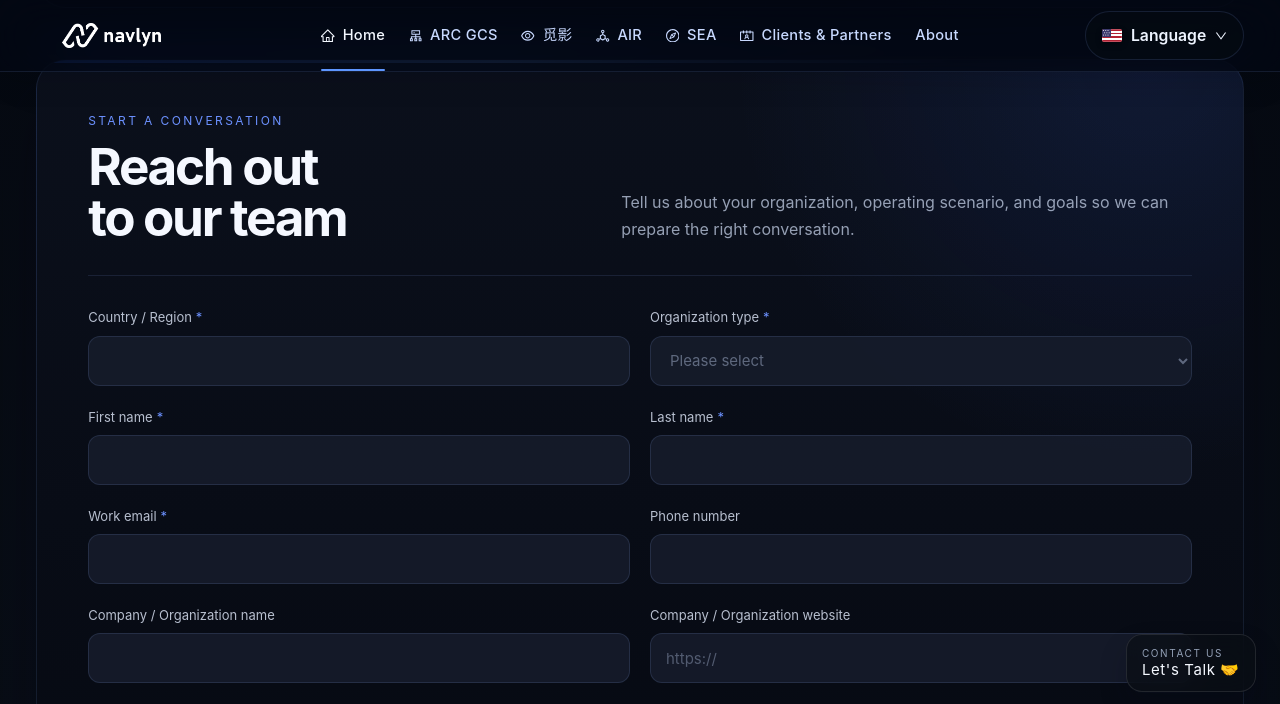
Test: ContactPage › keeps entered values and enables retry when the API rejects the request
The image size is (1280, 704).
(page scrolled)
Type "France" into the field labelled "Country / Region*".
click(359, 360); type("France")  # box [88, 336, 630, 386]
Select "University / Research" in the dropdown labelled "Organization type*" at (921, 360), box [650, 336, 1192, 386]
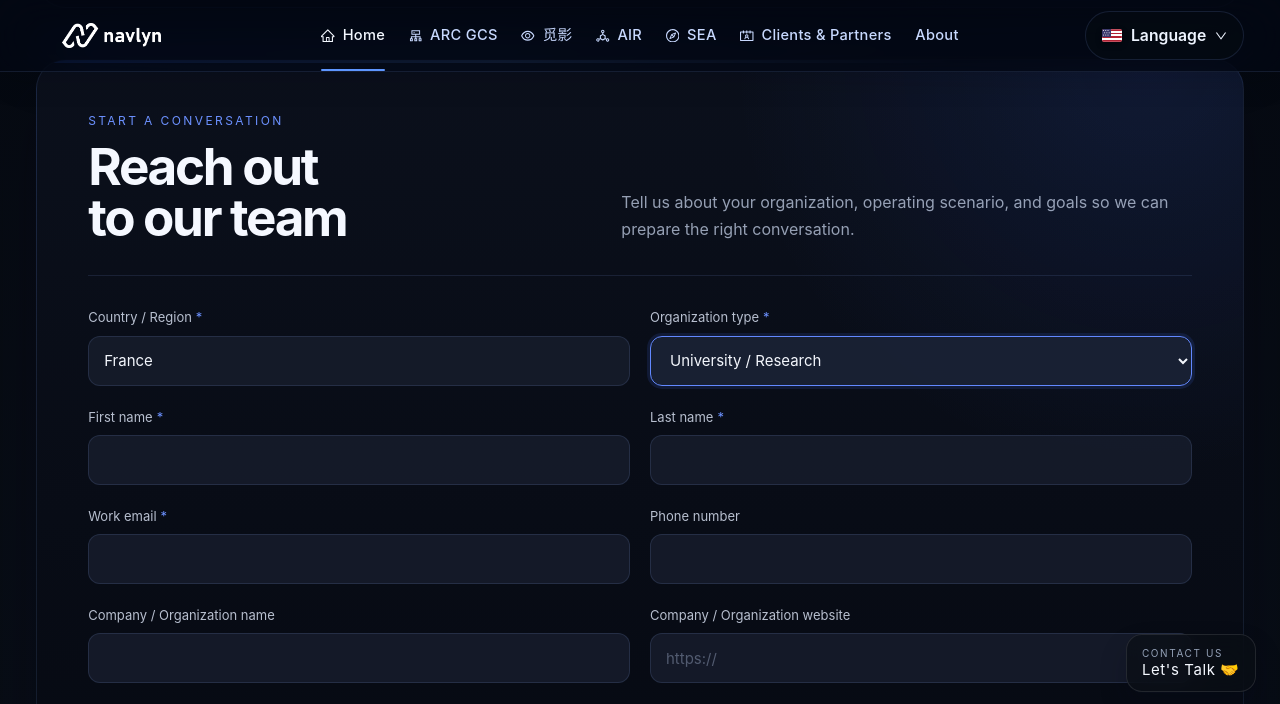
Type "Camille" into the field labelled "First name*".
click(359, 460); type("Camille")  # box [88, 435, 630, 485]
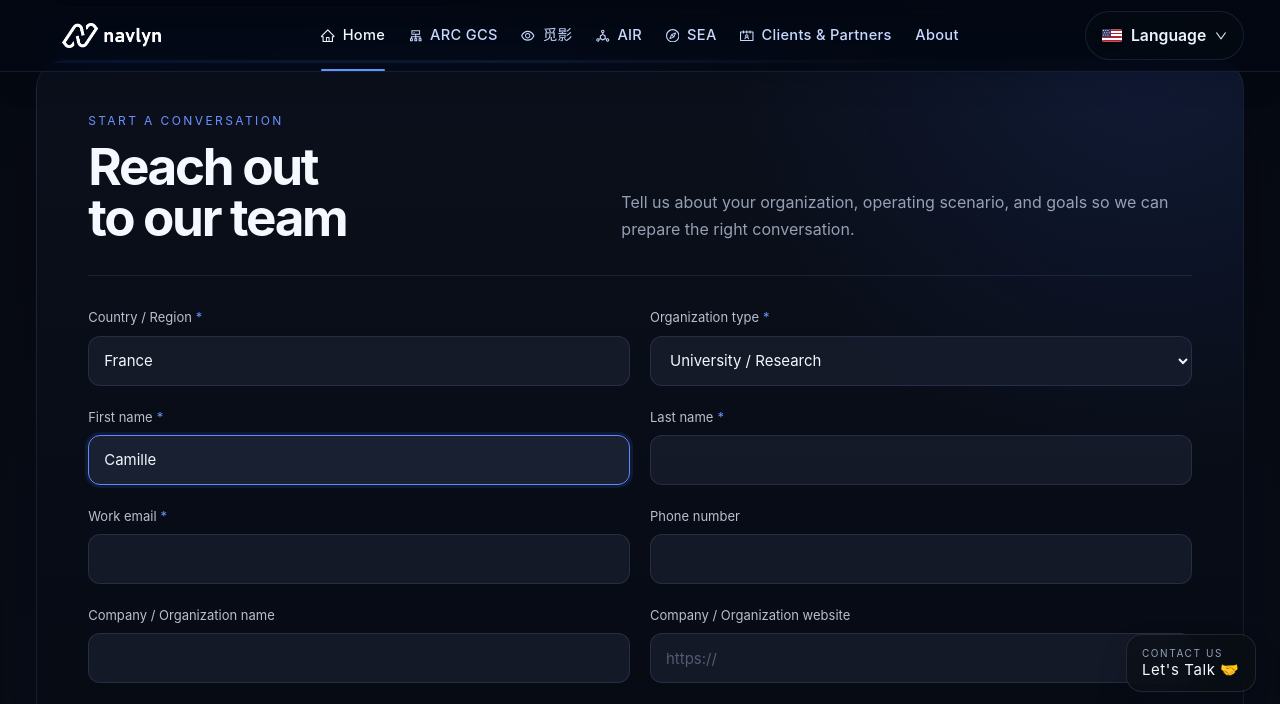
Type "Martin" into the field labelled "Last name*".
click(921, 460); type("Martin")  # box [650, 435, 1192, 485]
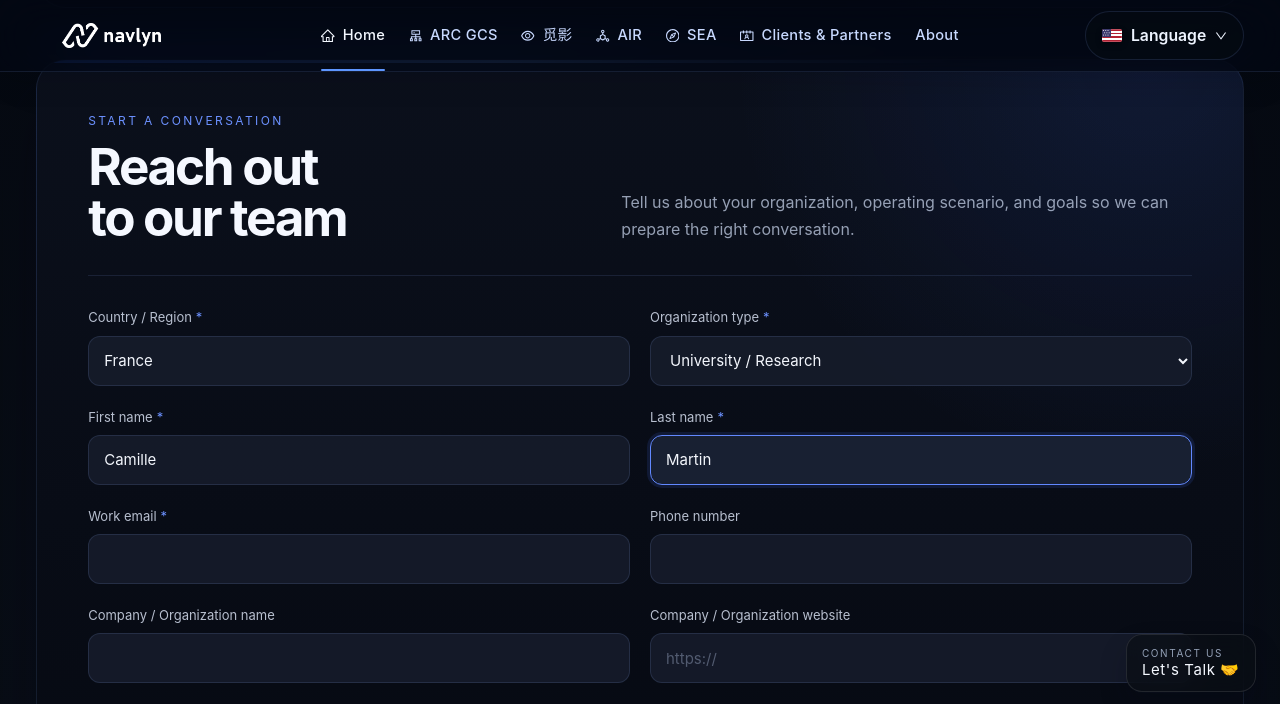
Type "camille@example.com" into the field labelled "Work email*".
click(359, 559); type("camille@example.com")  # box [88, 534, 630, 584]
(page scrolled)
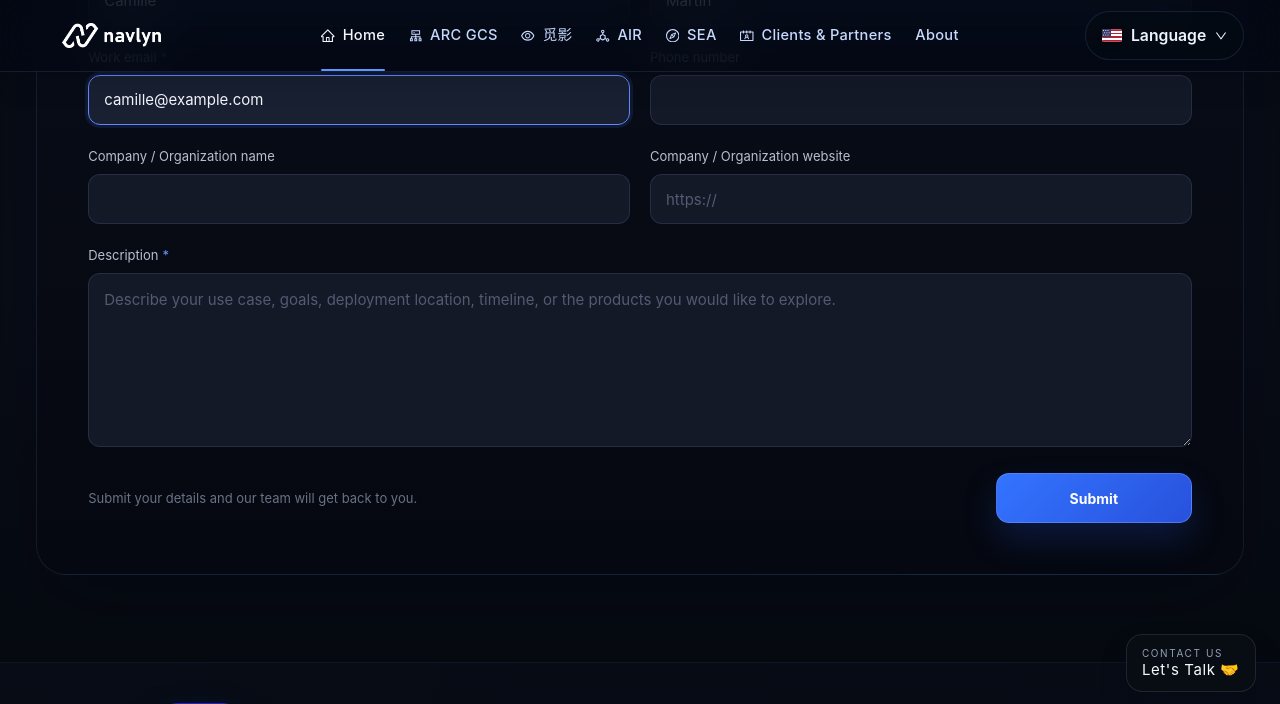
Type "Keep this text after failure." into the text box labelled "Description*".
click(640, 360); type("Keep this text after failure.")  # box [88, 273, 1192, 447]
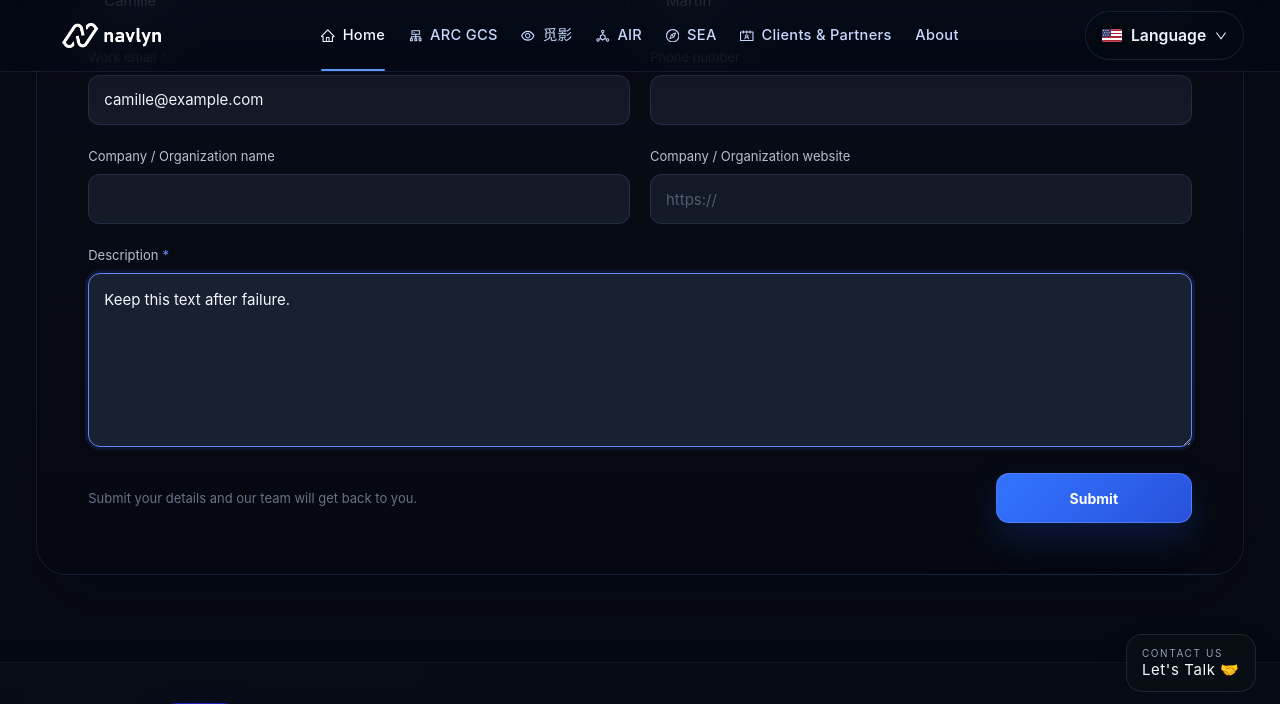
Click the button "Submit".
click(1094, 498)  # box [996, 473, 1192, 523]
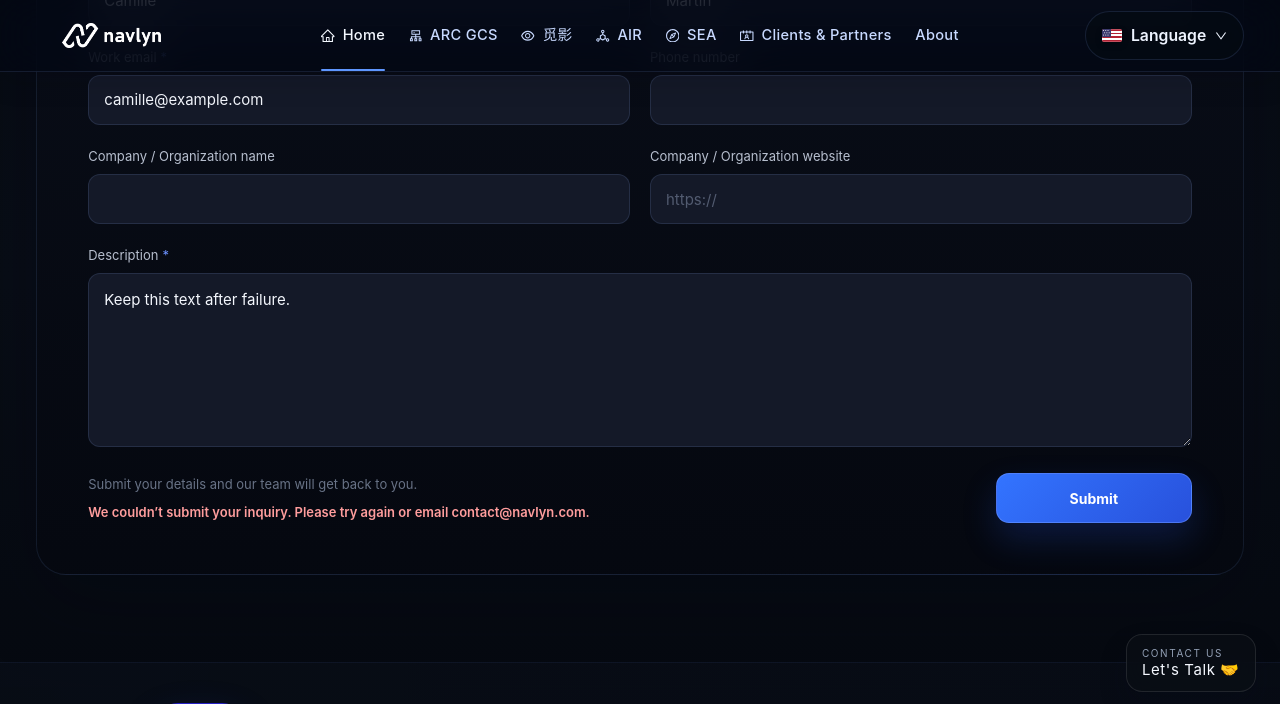
Expected: the message reads "We couldn’t submit your inquiry. Please try again or email contact@navlyn.com.", [88, 504, 590, 520]
